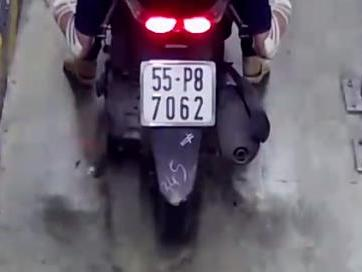num_plate: (139, 58, 217, 127)
